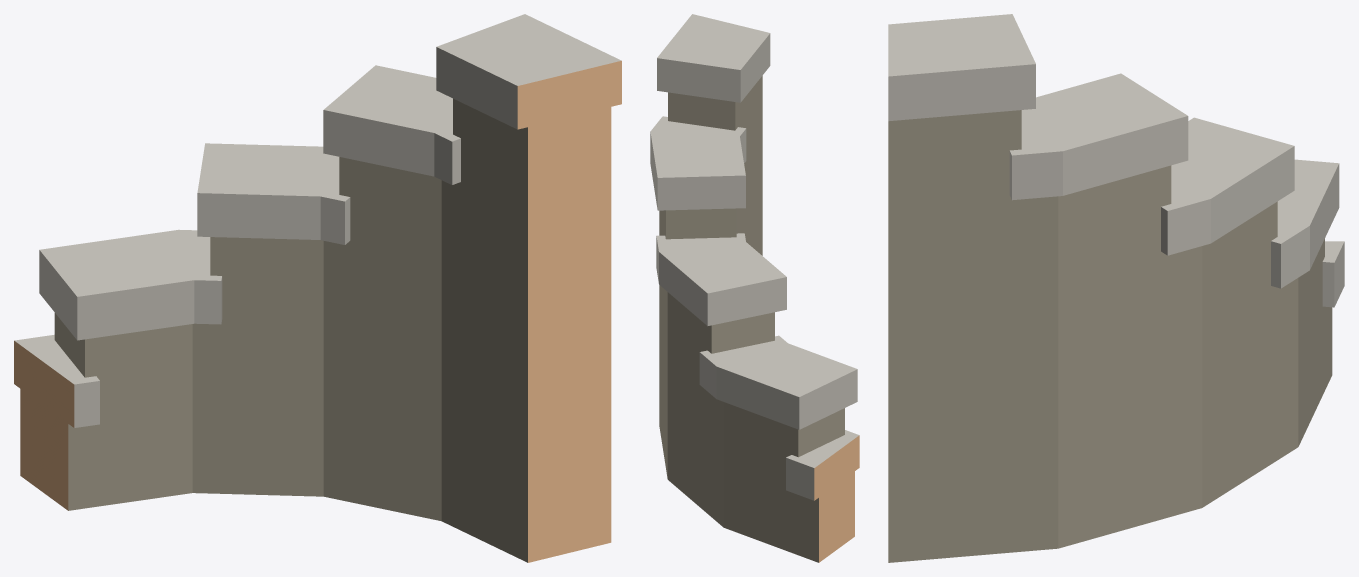
File: Tiered_Retaining_Wall_Stepped_Curve_Short_1x1.glb
3 renders of one model, left to right at view 1: azimuth 30°, elevation 25°; view 2: azimuth 150°, elevation 25°; view 3: azimuth 270°, elevation 25°, orthographic. The views are drawn at different scales.
Visible parts, largest first — view 1: Tiered_Retaining_Wall_Stepped_Curve_Short_1x1; view 2: Tiered_Retaining_Wall_Stepped_Curve_Short_1x1; view 3: Tiered_Retaining_Wall_Stepped_Curve_Short_1x1.
Part boxes in pixels (<box>): Tiered_Retaining_Wall_Stepped_Curve_Short_1x1: <box>14,14,621,562</box>; Tiered_Retaining_Wall_Stepped_Curve_Short_1x1: <box>650,14,859,562</box>; Tiered_Retaining_Wall_Stepped_Curve_Short_1x1: <box>888,14,1344,562</box>.
Size of the model in its own units: 116 by 138 by 116.
